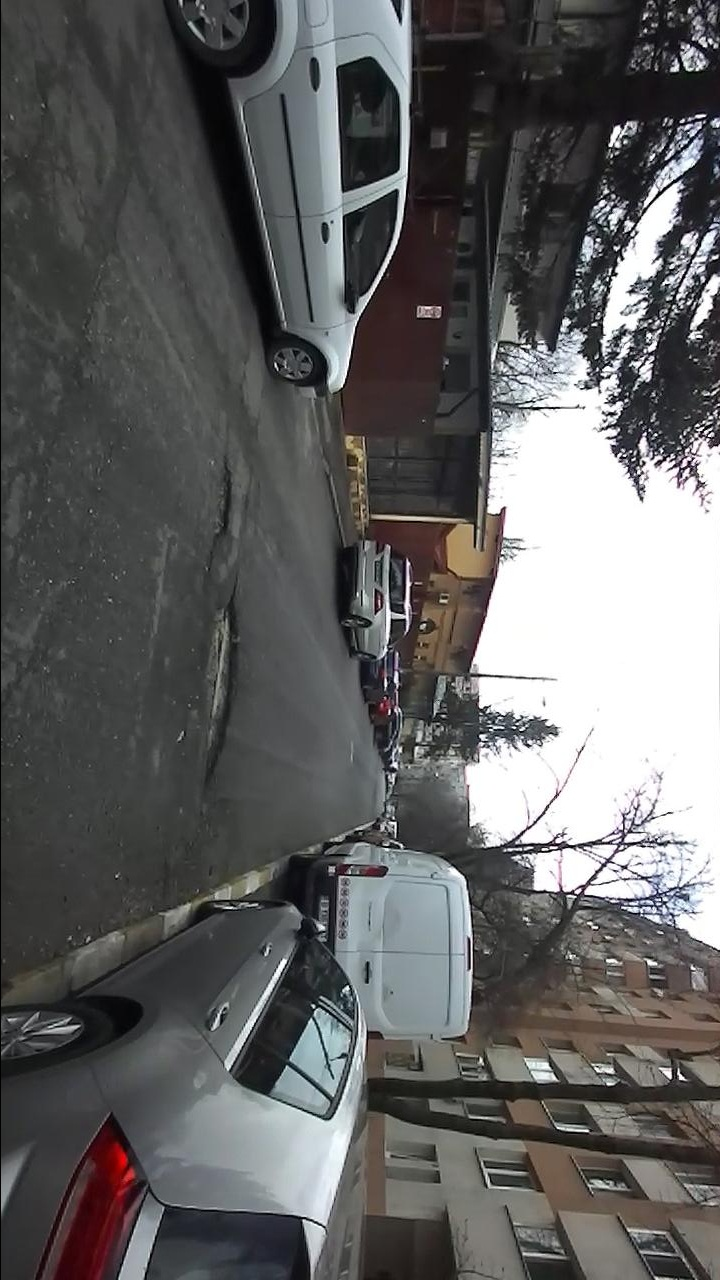pothole: (192, 576, 242, 790), (203, 451, 237, 572)
